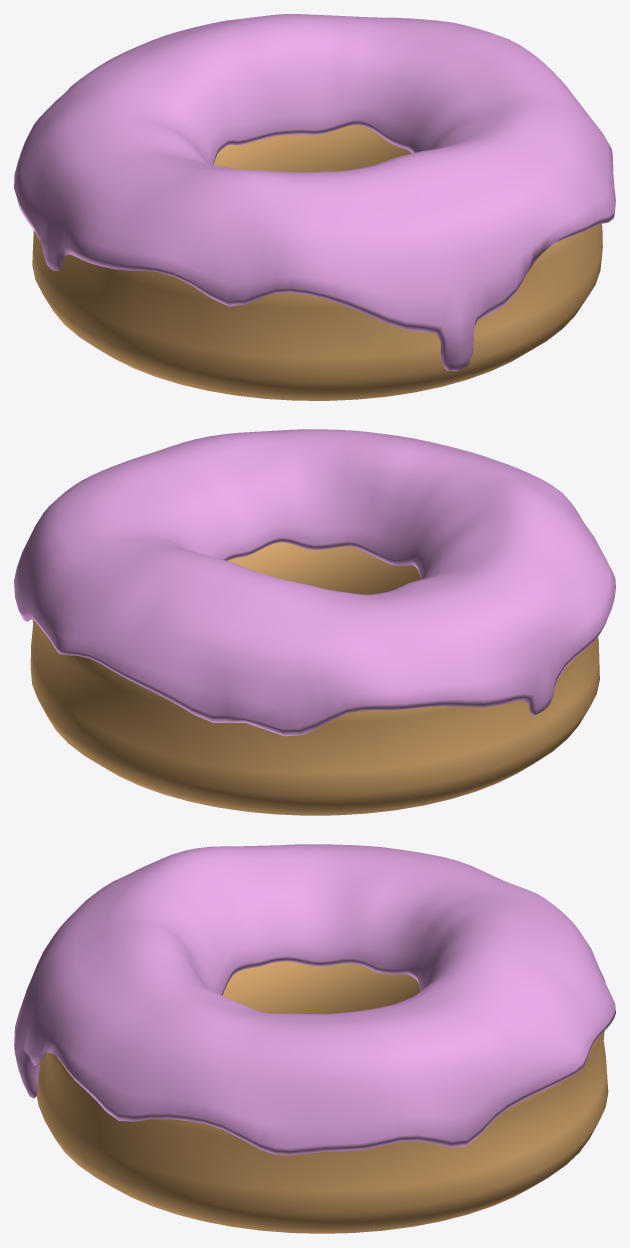
3 renders of one model, top to bottom at view 1: azimuth 30°, elevation 25°; view 2: azimuth 150°, elevation 25°; view 3: azimuth 270°, elevation 25°, orthographic.
Parts seen in each view (by area): view 1: icing.001, donut.001; view 2: icing.001, donut.001; view 3: icing.001, donut.001.
Boxes of the visible parts, x1,y1,x2,y2 form: icing.001: [14, 14, 615, 371]; donut.001: [32, 125, 602, 400]; icing.001: [14, 429, 615, 736]; donut.001: [30, 542, 599, 815]; icing.001: [14, 844, 615, 1155]; donut.001: [36, 961, 608, 1233].
Size of the model in its own units: 14.68 by 5.77 by 14.59.
